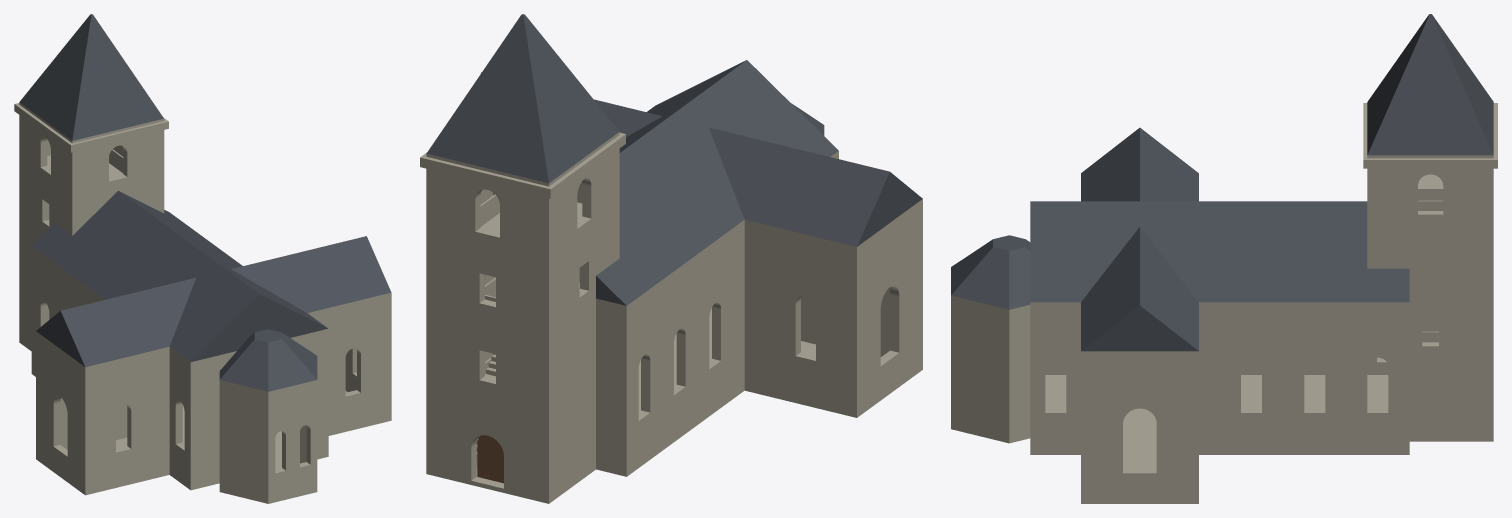
3 views of the same model, side by side, from view 1: azimuth 30°, elevation 25°; view 2: azimuth 150°, elevation 25°; view 3: azimuth 270°, elevation 25° (orthographic). The views are drawn at different scales.
Visible parts, largest first — view 1: body_stone, roof_slate, trim_stone; view 2: body_stone, roof_slate, trim_stone, door_timber; view 3: body_stone, roof_slate, trim_stone.
Boxes of the visible parts, box(x1,y1,x2,y2) form: body_stone: box(19, 102, 391, 503); roof_slate: box(19, 14, 391, 391); trim_stone: box(14, 103, 168, 152); body_stone: box(426, 132, 922, 503); roof_slate: box(426, 14, 922, 305); trim_stone: box(420, 132, 625, 198); door_timber: box(477, 435, 503, 483); body_stone: box(951, 155, 1493, 503); roof_slate: box(951, 14, 1493, 351); trim_stone: box(1363, 103, 1497, 168).
Size of what is drawn, in the model's own units: 20 by 20.98 by 25.97.
